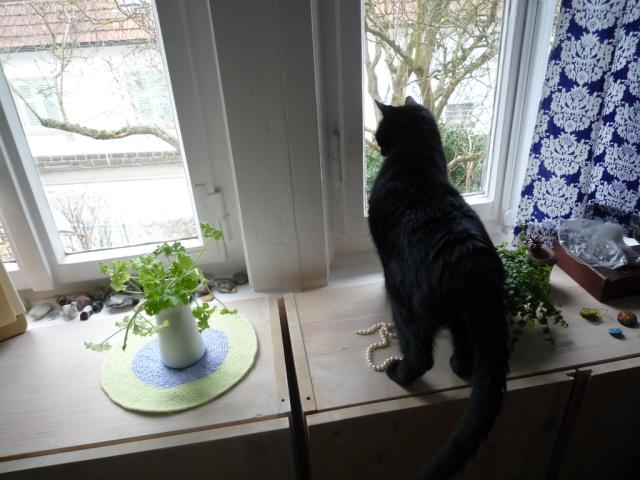Cat: (367, 94, 507, 480)
